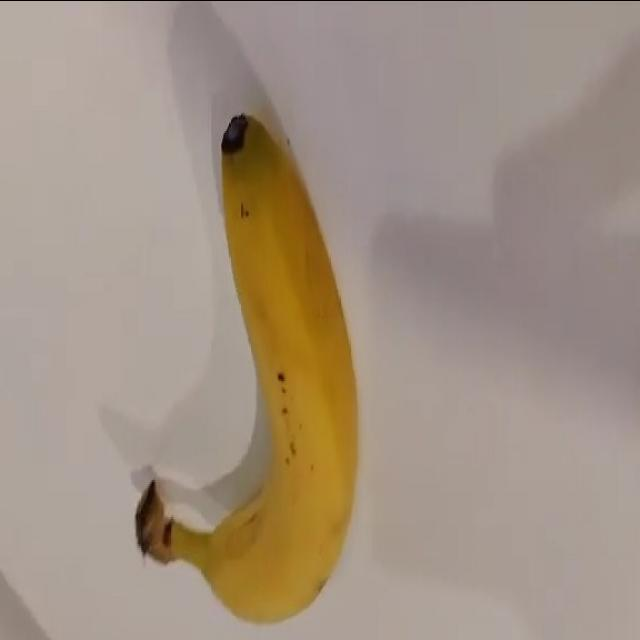Banana: (133, 111, 359, 624)
